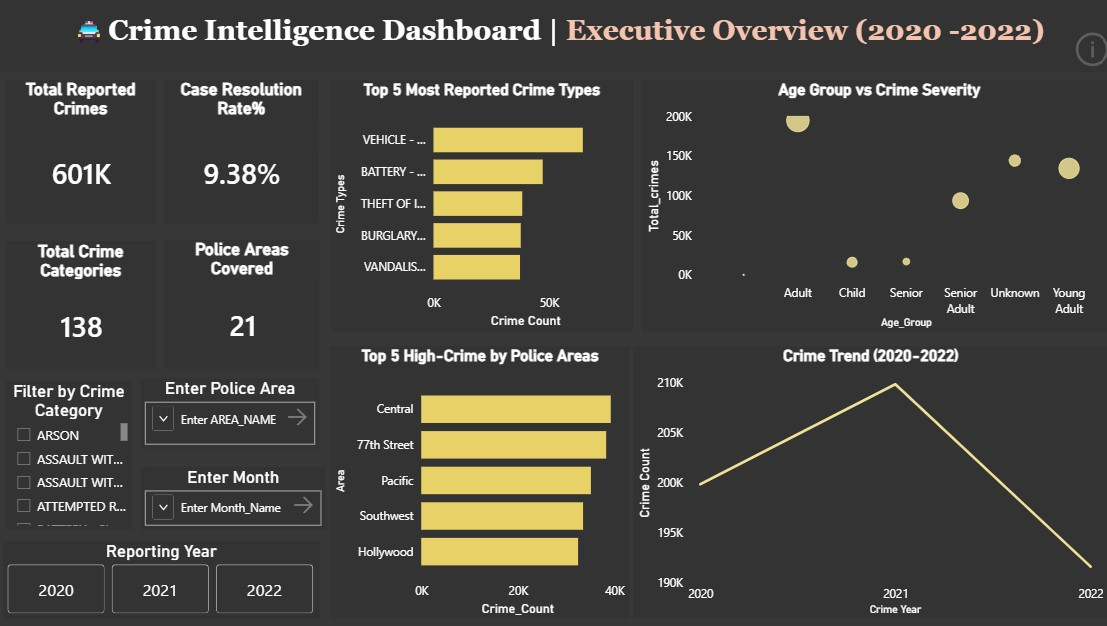

The page's visual inventory and layout, read from the dashboard file:
{"tool":"powerbi","page":{"name":"Page 1","canvas":[1280,720],"ordinal":0},"visuals":[{"type":"cardVisual","title":"Total Reported Crimes","fields":{"Data":["crime_cleaned.Total_crimes"]},"box":[10,91.4,171.4,164.3],"z":0},{"type":"cardVisual","title":"Police Areas Covered","fields":{"Data":["crime_cleaned.Total_Areas"]},"box":[191.4,274.3,177.1,147.1],"z":1000},{"type":"cardVisual","title":"Total Crime Categories","fields":{"Data":["crime_cleaned.Total_Crime_Types"]},"box":[10,275,171.7,146.7],"z":2000},{"type":"lineChart","title":"Crime Trend (2020-2022)","fields":{"Category":["crime_cleaned.Crime_Year","crime_cleaned.Month_Name","crime_cleaned.Quarter_No","crime_cleaned.Crime_Hour"],"Y":["CountNonNull(crime_cleaned.DR_NO)"]},"box":[727.1,395.7,542.9,311.4],"z":3000},{"type":"barChart","title":"Top 5 Most Reported Crime Types","fields":{"Category":["crime_cleaned.Crm_Cd_Desc"],"Y":["CountNonNull(crime_cleaned.DR_NO)"]},"box":[381.4,91.4,345.7,287.1],"z":4000},{"type":"cardVisual","title":"Case Resolution Rate%","fields":{"Data":["crime_cleaned.Solved_Cases%"]},"box":[191.4,91.4,175.7,164.3],"z":5000},{"type":"barChart","title":"Top 5 High-Crime by Police Areas","fields":{"Category":["crime_cleaned.AREA_NAME"],"Y":["Count(crime_cleaned.DR_NO)"]},"box":[381.4,395.7,341.4,311.4],"z":6000},{"type":"scatterChart","title":"Age Group vs Crime Severity","fields":{"Size":["crime_cleaned.Weapon_Crimes"],"X":["crime_cleaned.Age_Group"],"Y":["crime_cleaned.Total_crimes"]},"box":[737.1,91.4,542.9,287.1],"z":7000},{"type":"advancedSlicerVisual","title":"Reporting Year","fields":{"Values":["crime_cleaned.Crime_Year"]},"box":[7.1,618.6,361.4,88.6],"z":8000},{"type":"textSlicer","title":"Enter Police Area","fields":{"Values":["crime_cleaned.AREA_NAME"]},"box":[164.3,432.9,204.3,80],"z":9000},{"type":"slicer","title":"Filter by Crime Category","fields":{"Values":["crime_cleaned.Crm_Cd_Desc"]},"box":[10,435.7,144.3,170],"z":10000},{"type":"textSlicer","title":"Enter Month","fields":{"Values":["crime_cleaned.Month_Name"]},"box":[164.3,534.3,211.4,71.4],"z":11000},{"type":"textbox","box":[0,0,1280.3,82.3],"z":12000},{"type":"actionButton","box":[1226.7,31.7,53.3,50],"z":13000}]}

Visuals, with their boxes in screenshot pixels (x1, y1, x2, y2), scaled from the page's 1280x720 canvas onto the 1107x626 screenshot:
"Total Reported Crimes" cardVisual: 9 79 157 222
"Police Areas Covered" cardVisual: 166 238 319 366
"Total Crime Categories" cardVisual: 9 239 157 367
"Crime Trend (2020-2022)" lineChart: 629 344 1098 615
"Top 5 Most Reported Crime Types" barChart: 330 79 629 329
"Case Resolution Rate%" cardVisual: 166 79 317 222
"Top 5 High-Crime by Police Areas" barChart: 330 344 625 615
"Age Group vs Crime Severity" scatterChart: 637 79 1106 329
"Reporting Year" advancedSlicerVisual: 6 538 319 615
"Enter Police Area" textSlicer: 142 376 319 446
"Filter by Crime Category" slicer: 9 379 133 527
"Enter Month" textSlicer: 142 465 325 527
textbox: 0 0 1106 72
actionButton: 1061 28 1106 71
